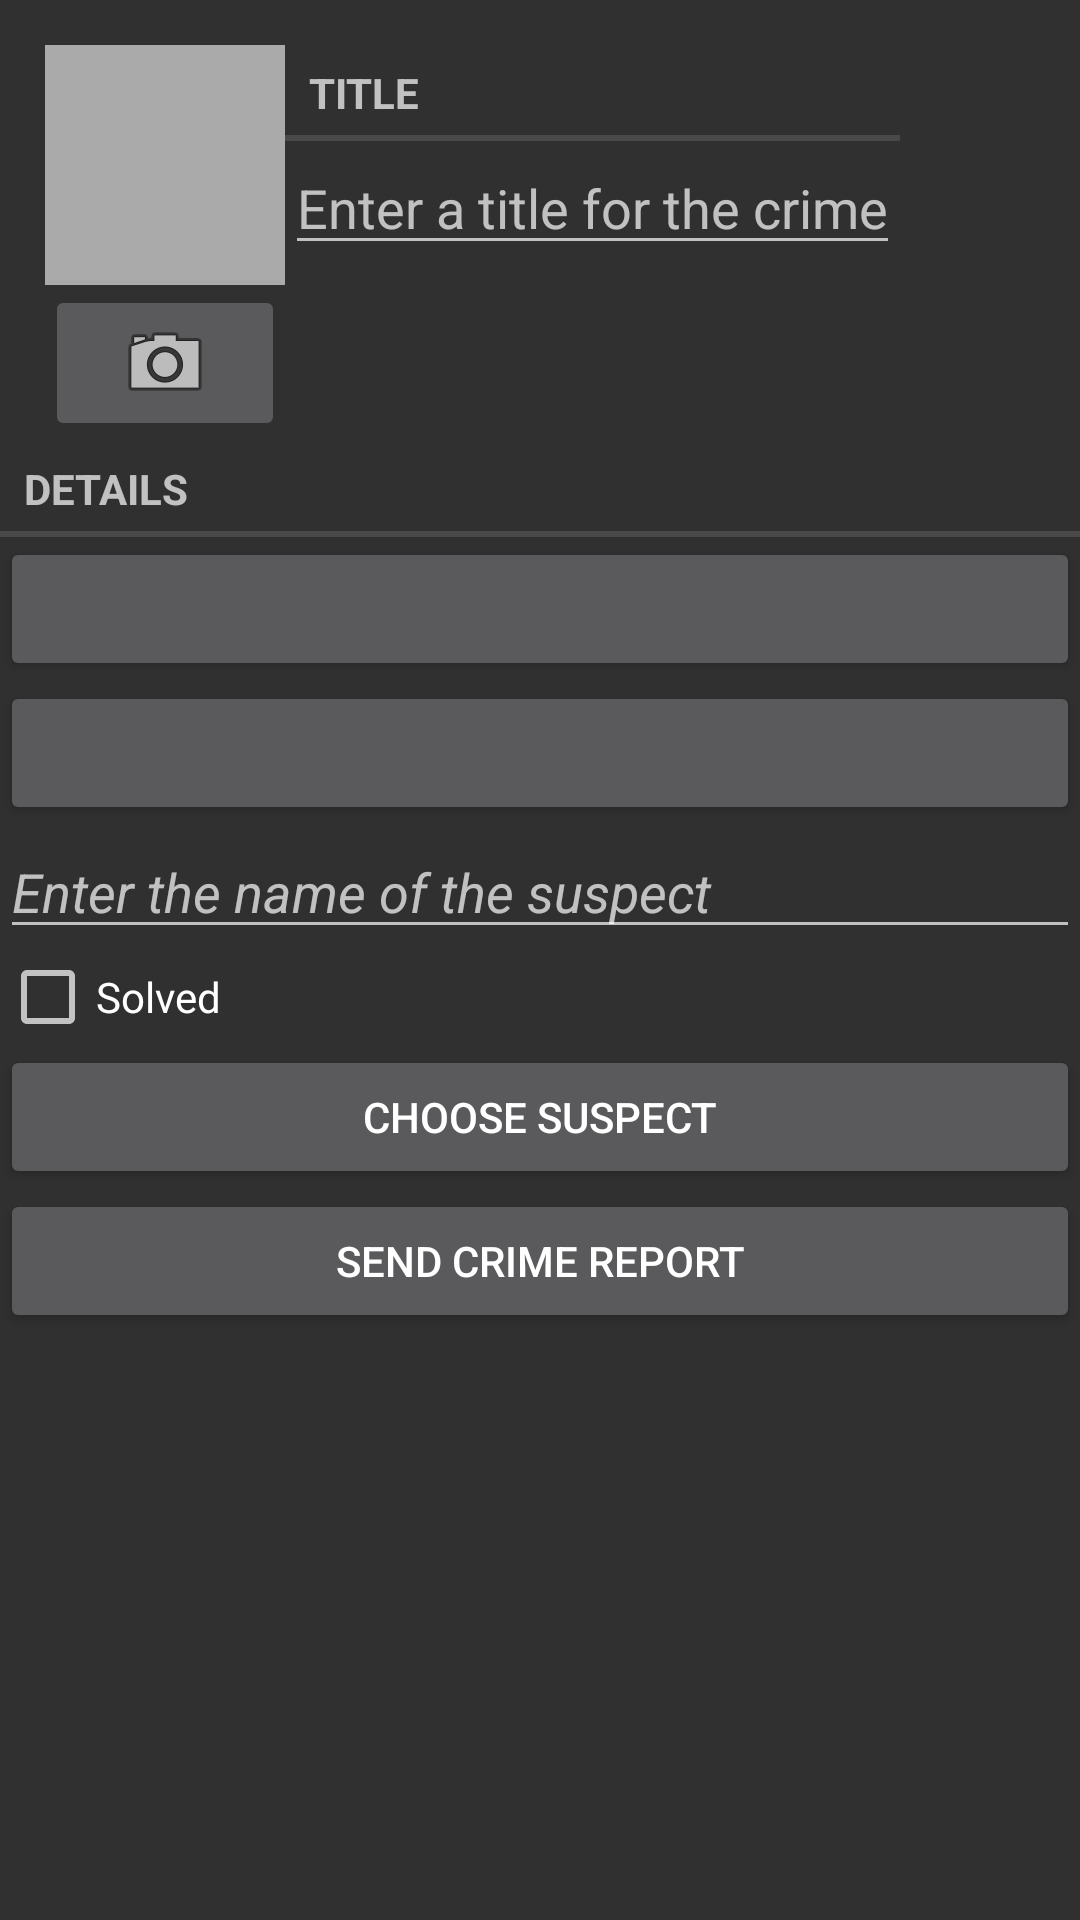

Screen size 1080x1920. Icon name, then its box in pixels as (x1, y1, x2, y2):
camera: (57, 303, 273, 423)
